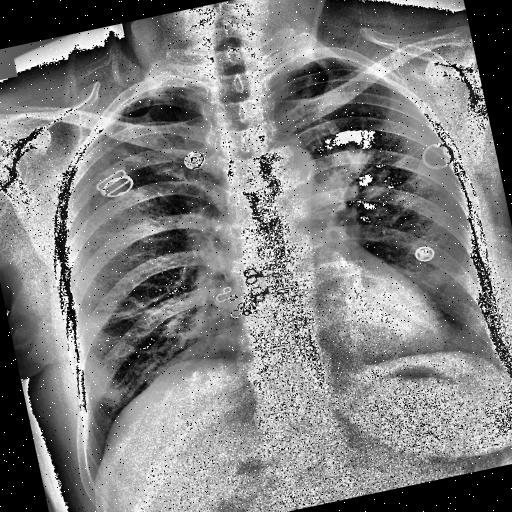0- Aortic enlargement: (254, 137, 318, 188)
11- Pleural thickening: (129, 78, 198, 98), (329, 46, 370, 77)
13- Pulmonary fibrosis: (96, 128, 152, 178)
4- Consolidation: (309, 136, 376, 208)
6- Infiltration: (410, 238, 497, 378), (356, 154, 420, 230)
7- Lung Opacity: (96, 128, 152, 178)
